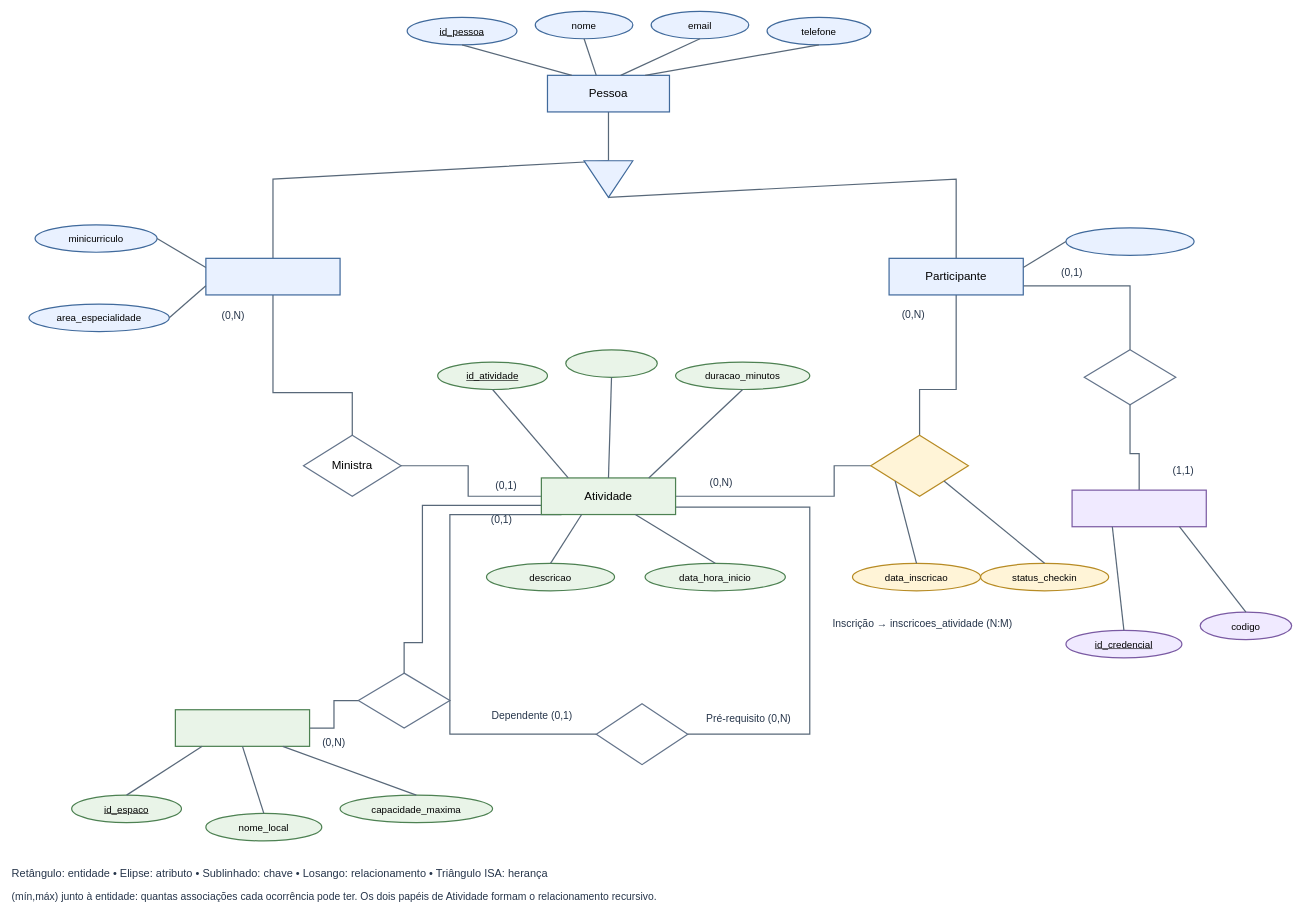
The diagram is 1302 pixels wide and 918 high, and some of its shapes have lost their labels. Here are the shapes that lost their labels. From the top down, the box of each, then its label:
(583, 160, 633, 198): ISA
(1065, 227, 1194, 256): tipo_ingresso
(205, 257, 340, 295): Palestrante
(565, 349, 658, 378): titulo
(1083, 349, 1176, 405): Possui
(870, 434, 969, 497): Inscrição
(1071, 489, 1207, 527): Credencial
(357, 672, 450, 728): Sedia
(174, 709, 310, 747): Espaço
(595, 703, 688, 765): Exige
